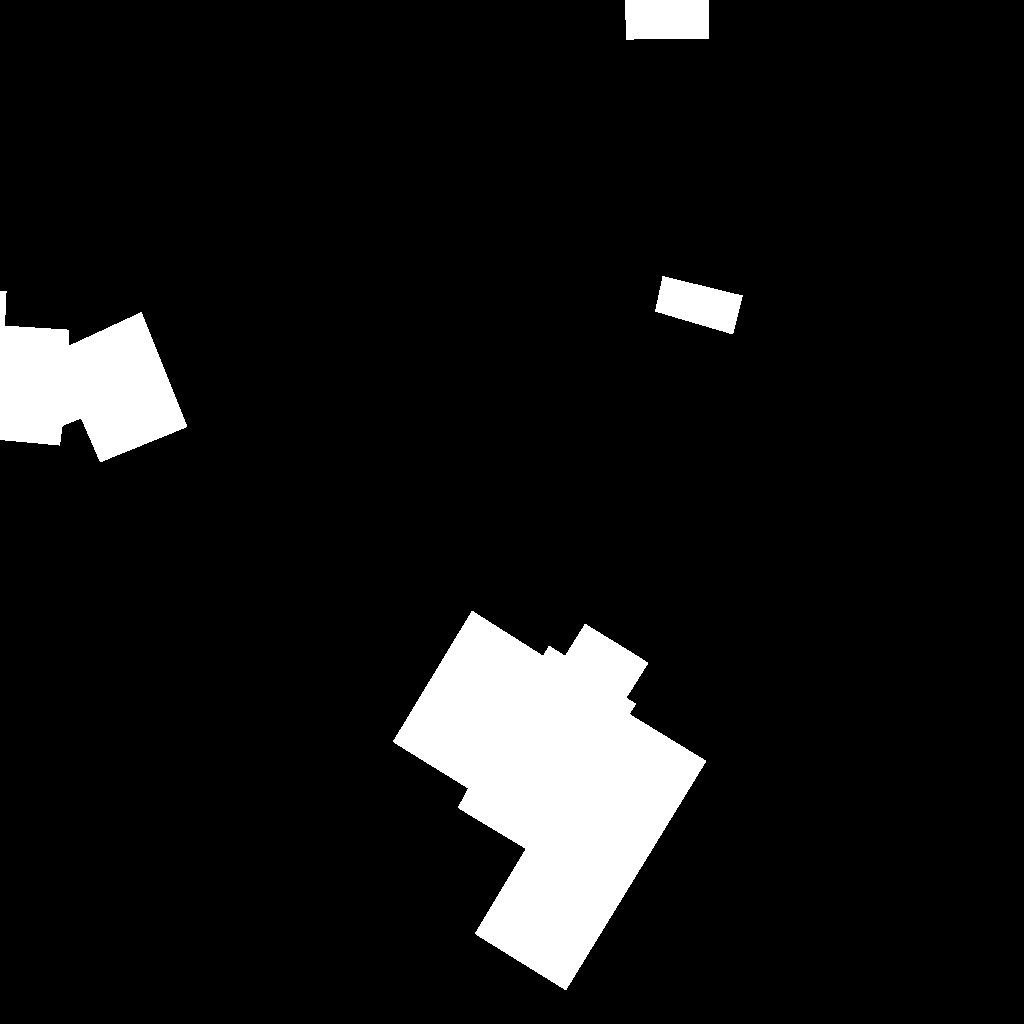building: (393, 611, 707, 991), (0, 291, 188, 463), (655, 276, 744, 335), (625, 0, 710, 40)
